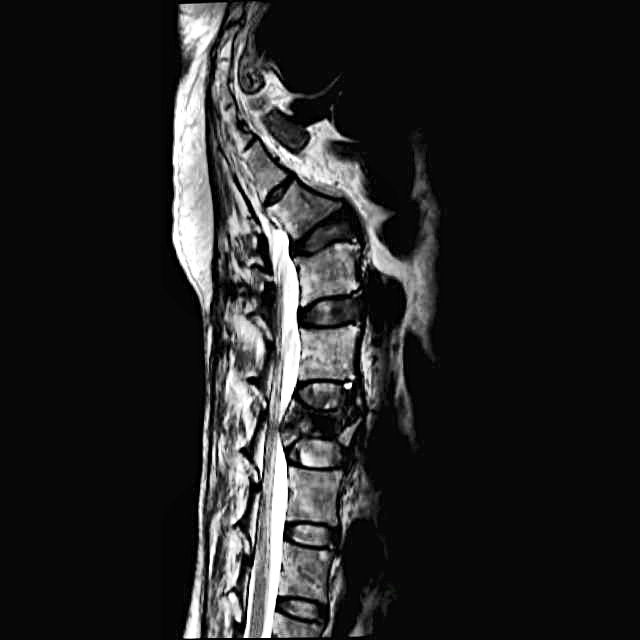Comminuted: (274, 372, 372, 482)
